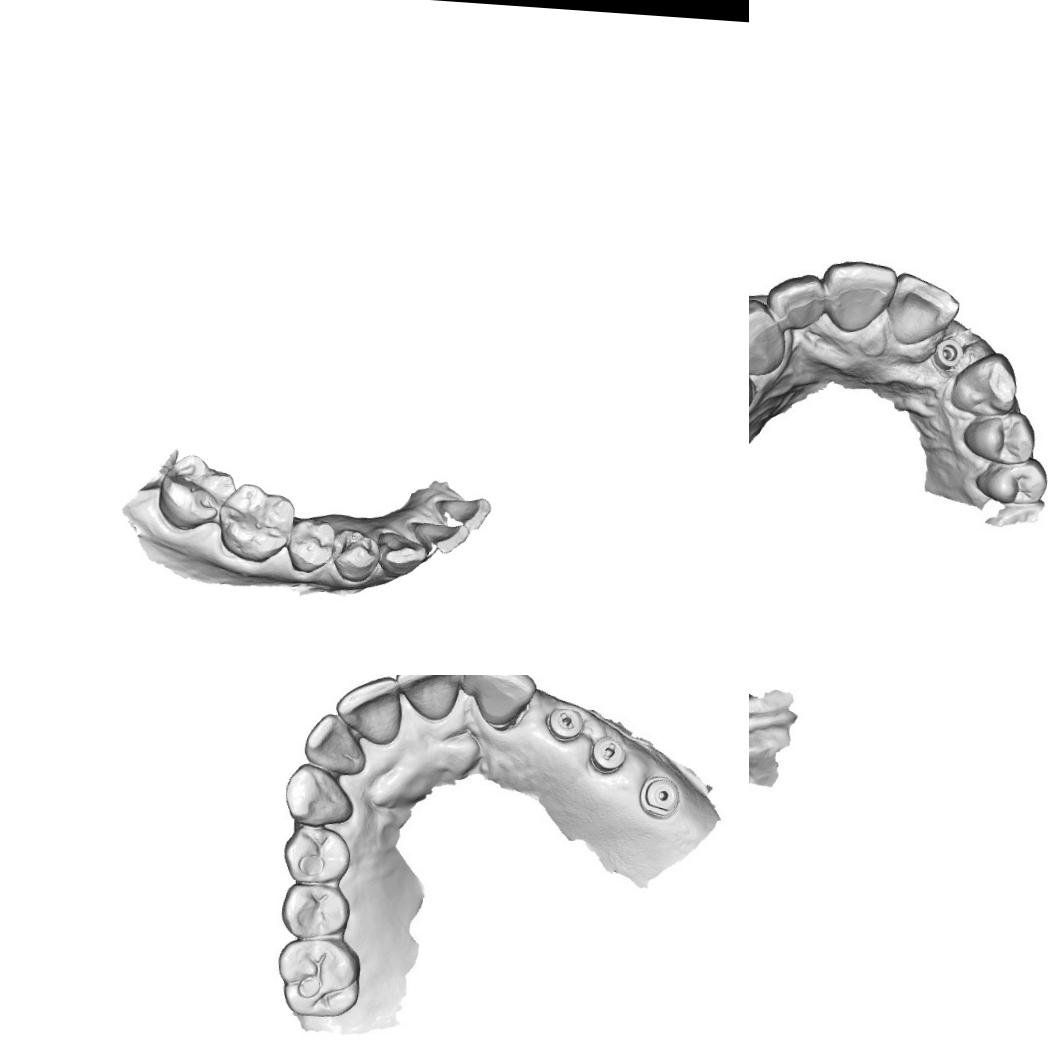canine: (282, 760, 362, 837), (948, 353, 1020, 418), (749, 296, 787, 377), (377, 530, 431, 582)
implant: (630, 766, 687, 826), (932, 335, 968, 375)
implant_minus: (543, 702, 597, 749), (580, 732, 632, 776)
incisor: (890, 274, 966, 341), (826, 256, 896, 328), (337, 675, 402, 742), (764, 269, 832, 330), (302, 716, 370, 773), (473, 675, 535, 724), (396, 675, 460, 715), (412, 516, 470, 558), (439, 493, 491, 531)
molar: (272, 936, 364, 1022), (214, 480, 296, 564), (154, 449, 232, 535)
premolar: (280, 824, 352, 890), (278, 880, 352, 944), (959, 407, 1037, 465), (974, 452, 1050, 509), (284, 517, 335, 579), (328, 526, 381, 584)
